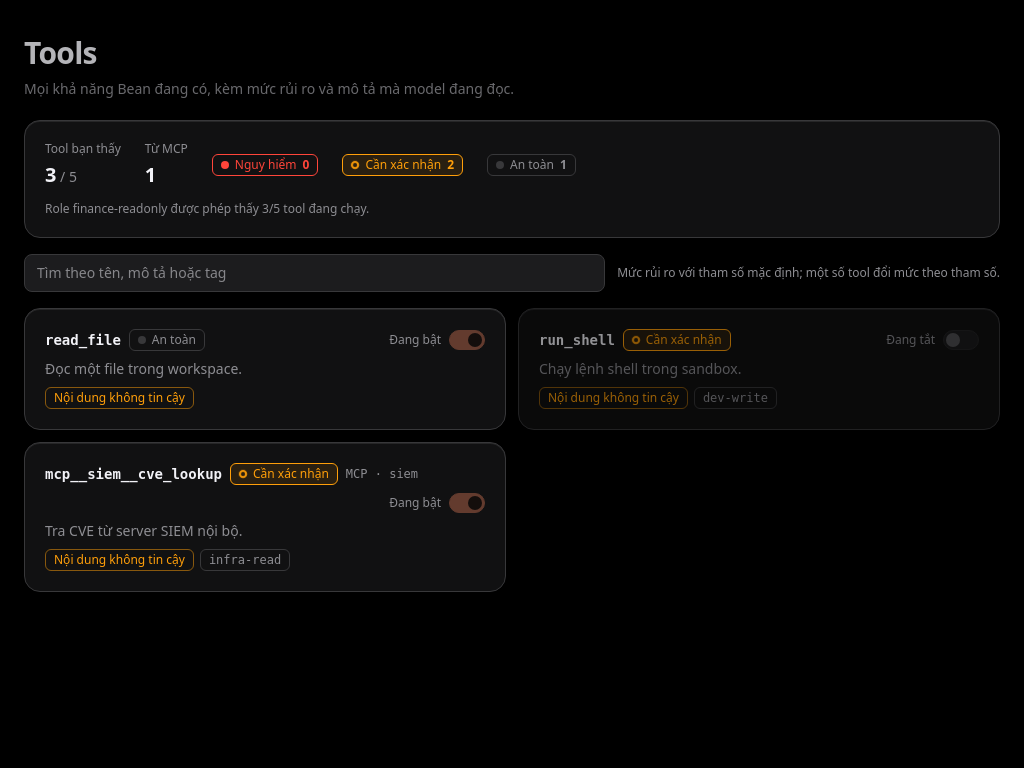
Test: ToolsPage › lọc không ra kết quả thì nói khác với registry trống
Check: the heading "read_file" is shown, box [45,330,121,350]
Type "khong-ton-tai" into the field with placeholder "Tìm theo tên, mô tả hoặc tag" at (315, 273), box [24,254,605,292]
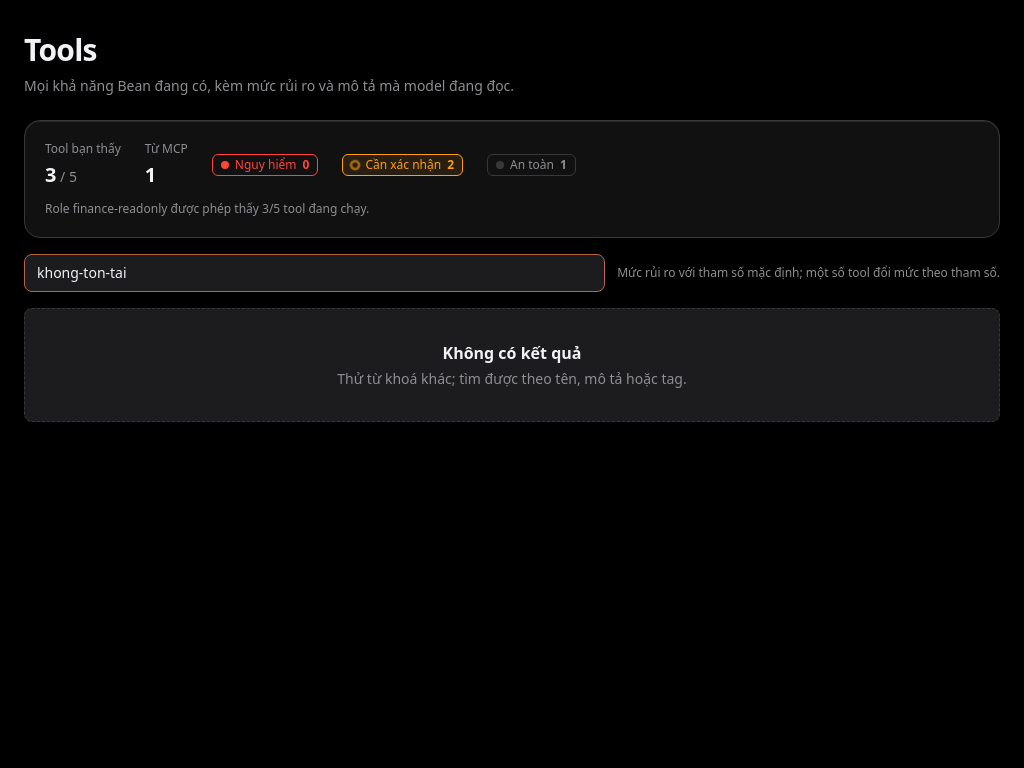
Check: the text "Không có kết quả" is shown, box [442,342,581,364]
